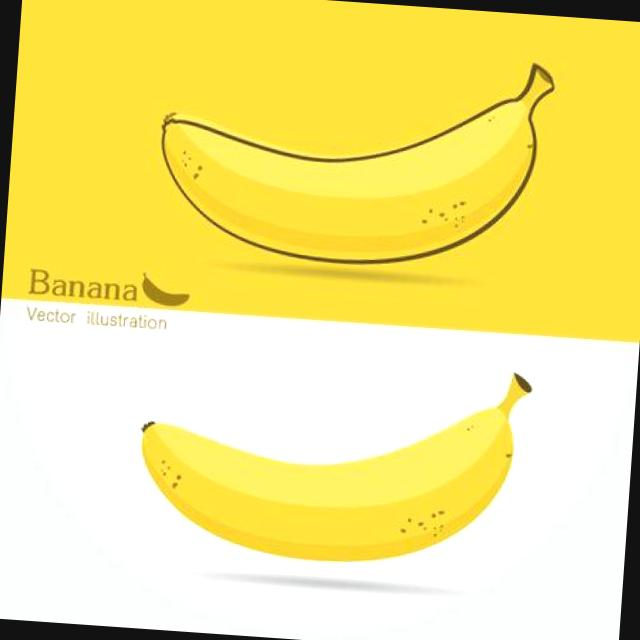banana: (116, 383, 534, 589), (145, 78, 556, 284)
